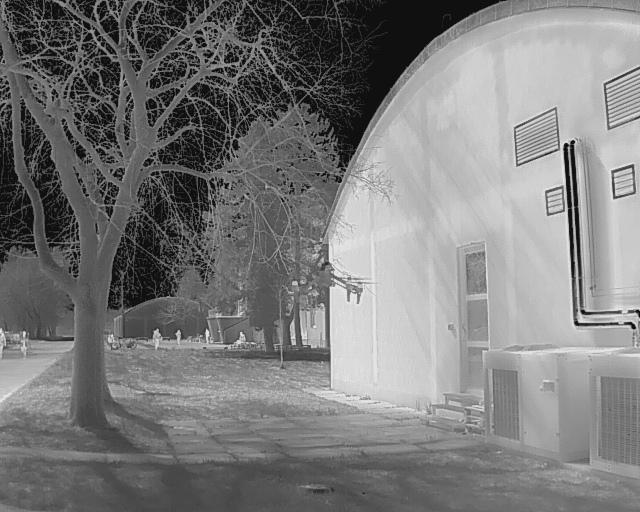drone: (282, 243, 371, 324)
